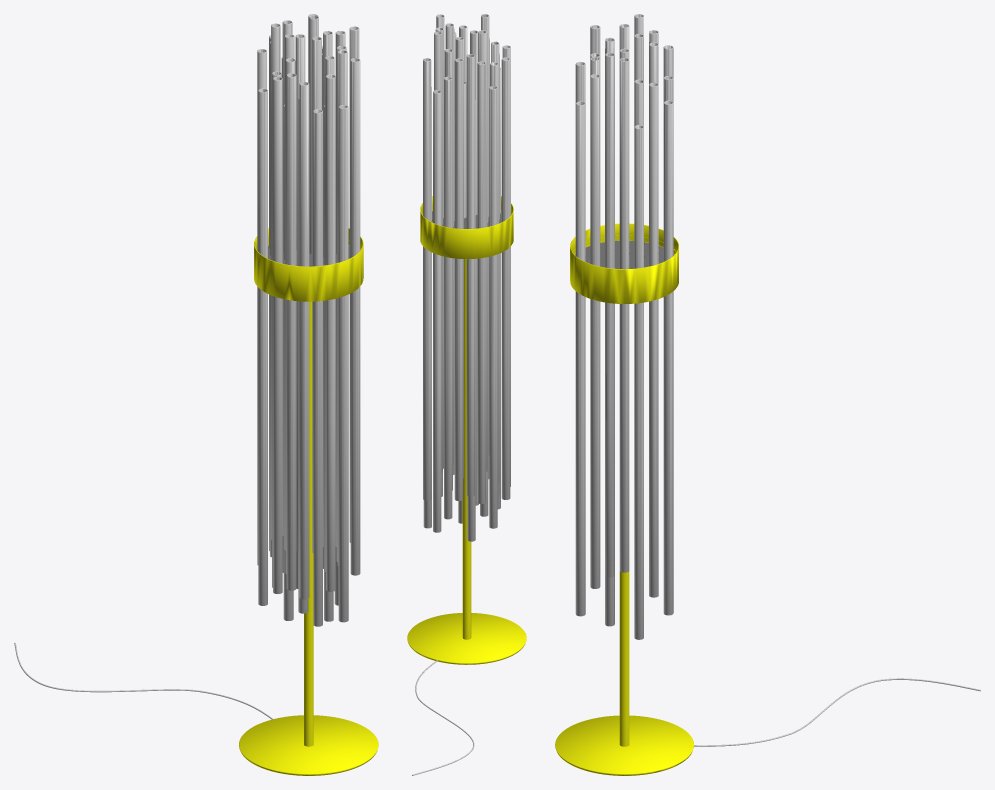
Rendered from designconnected-my-lamp-floor-8961.optimized.glb.
The picture shows the model from 3 angles, left to right: view 1: azimuth 30°, elevation 25°; view 2: azimuth 150°, elevation 25°; view 3: azimuth 270°, elevation 25°; orthographic projection. The views are drawn at different scales.
Parts seen in each view (by area): view 1: Paolo_Castelli_My_Lamp_Floor_mat1; view 2: Paolo_Castelli_My_Lamp_Floor_mat1; view 3: Paolo_Castelli_My_Lamp_Floor_mat1.
Part boxes in pixels (x1,y1,x2,y2): Paolo_Castelli_My_Lamp_Floor_mat1: [14, 14, 378, 775]; Paolo_Castelli_My_Lamp_Floor_mat1: [407, 14, 526, 775]; Paolo_Castelli_My_Lamp_Floor_mat1: [555, 14, 980, 775].
Size of the model in its own units: 0.61 by 2.11 by 1.13.
